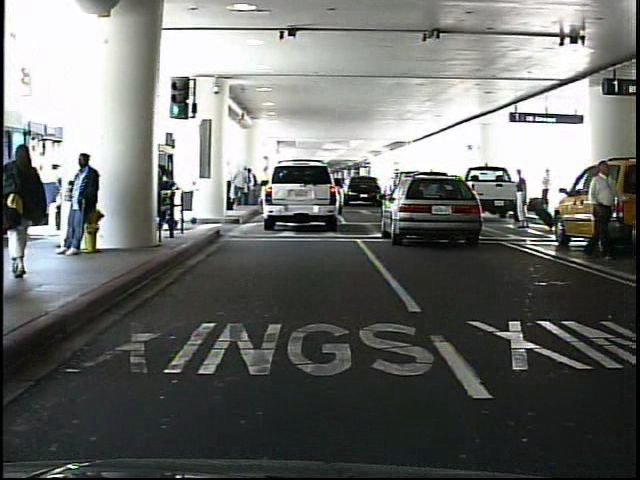person: (0, 141, 51, 275), (64, 149, 102, 257), (586, 156, 622, 262), (510, 169, 530, 232), (542, 167, 554, 213)
